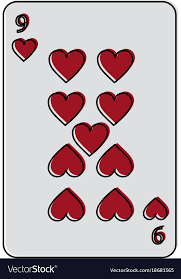nine of hearts: (5, 4, 177, 260)
